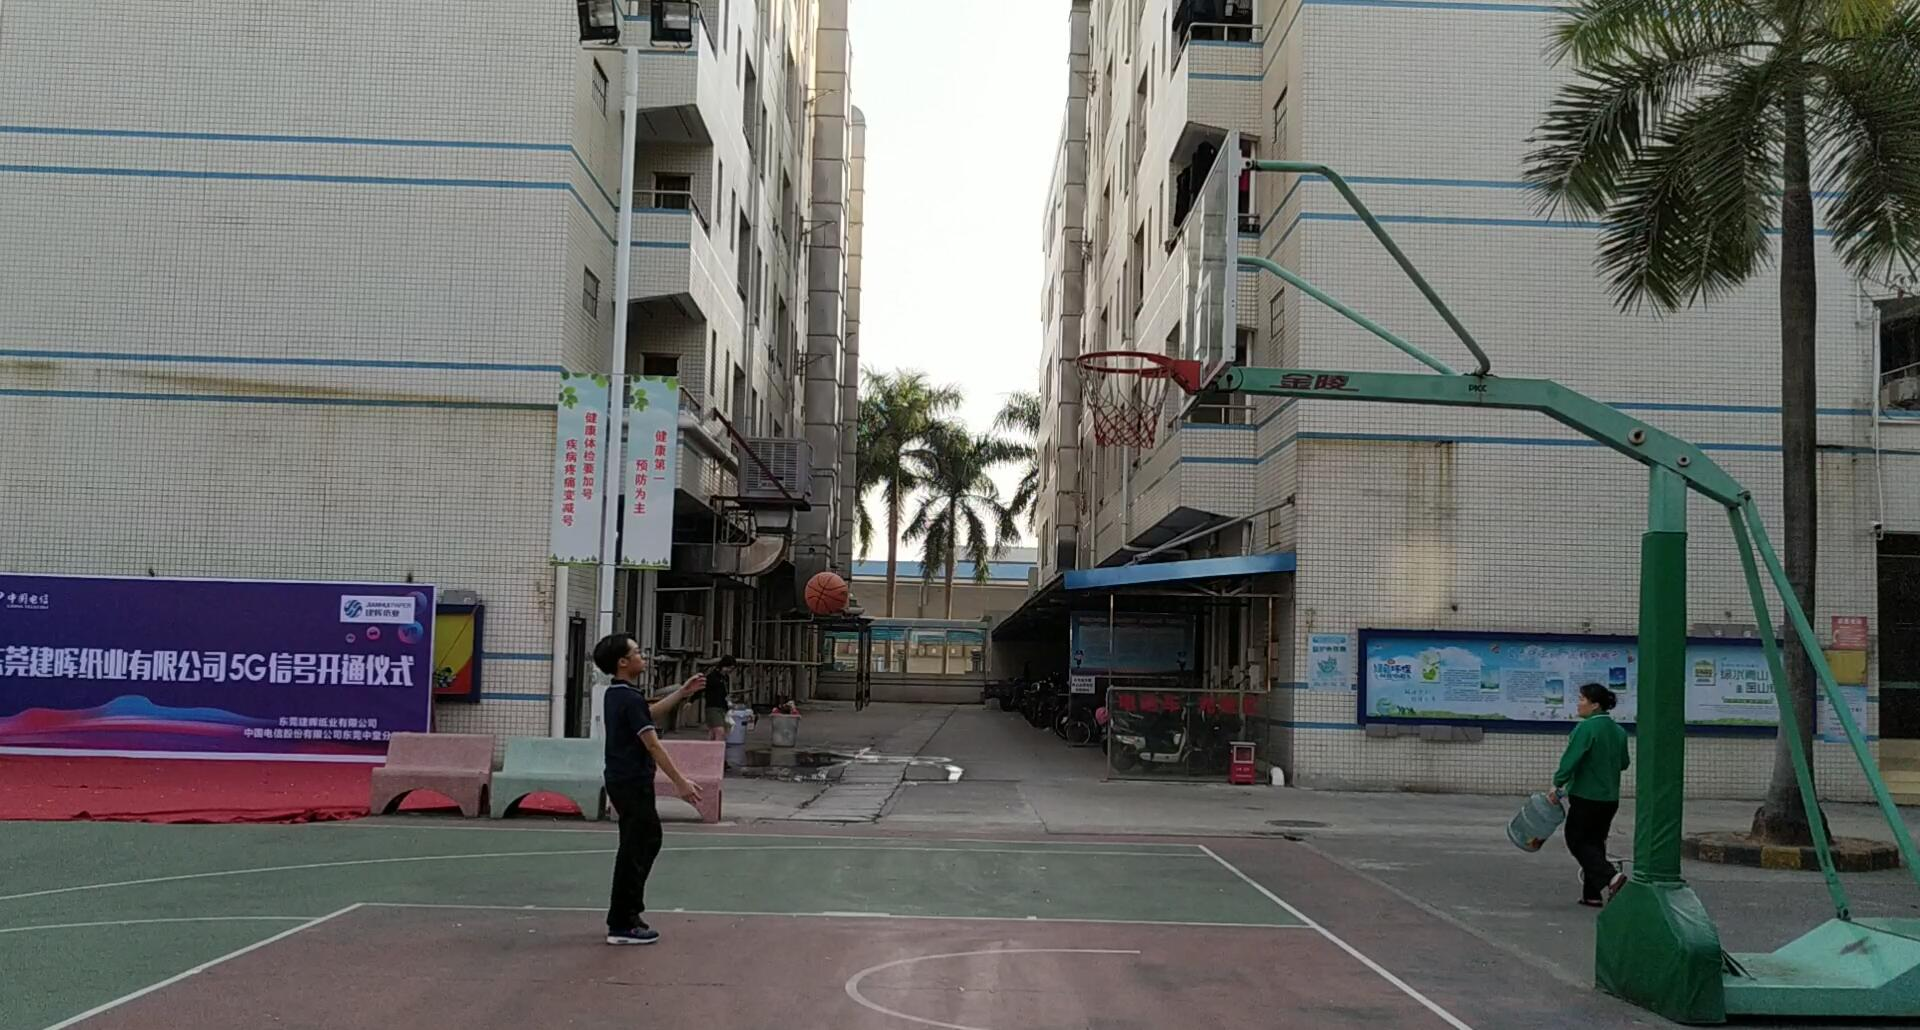basketball: (799, 569, 850, 620)
